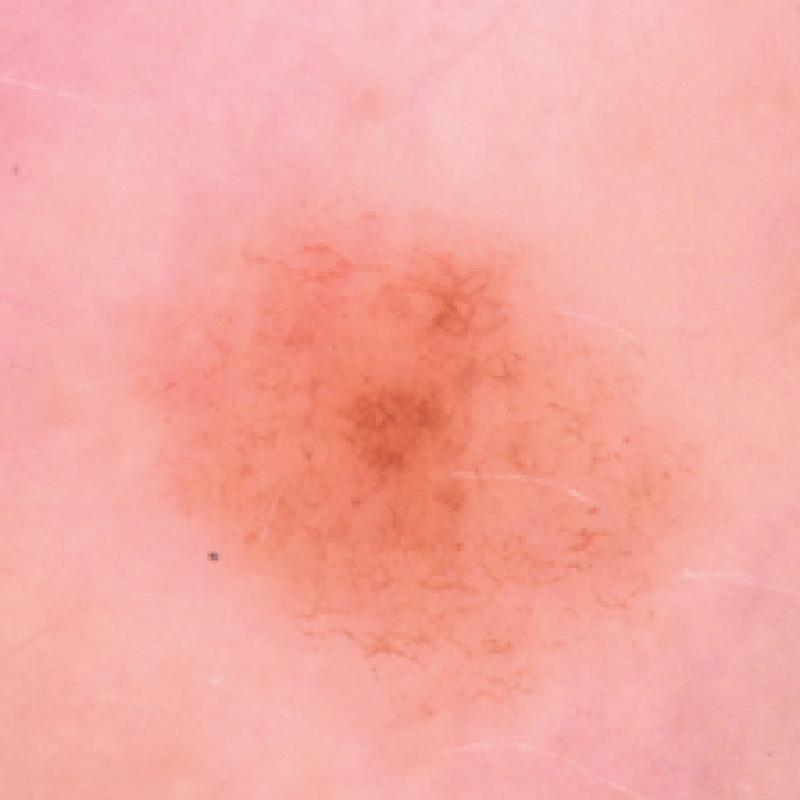benign: (132, 211, 721, 704)
